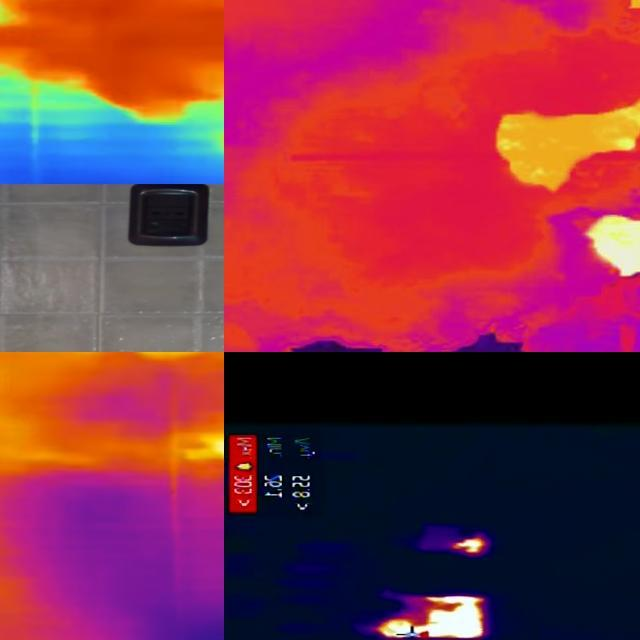fire: (494, 97, 640, 285), (89, 1, 226, 89), (378, 595, 486, 640), (170, 418, 225, 466), (451, 535, 489, 556)
